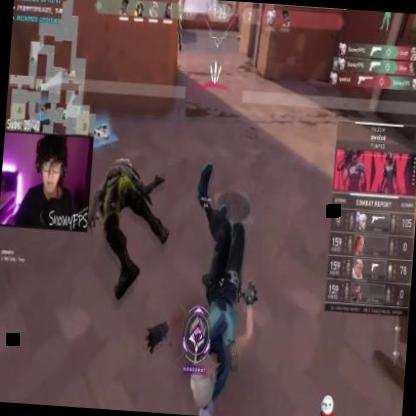enemy: (172, 0, 185, 51)
enemy_head: (177, 1, 182, 12)
